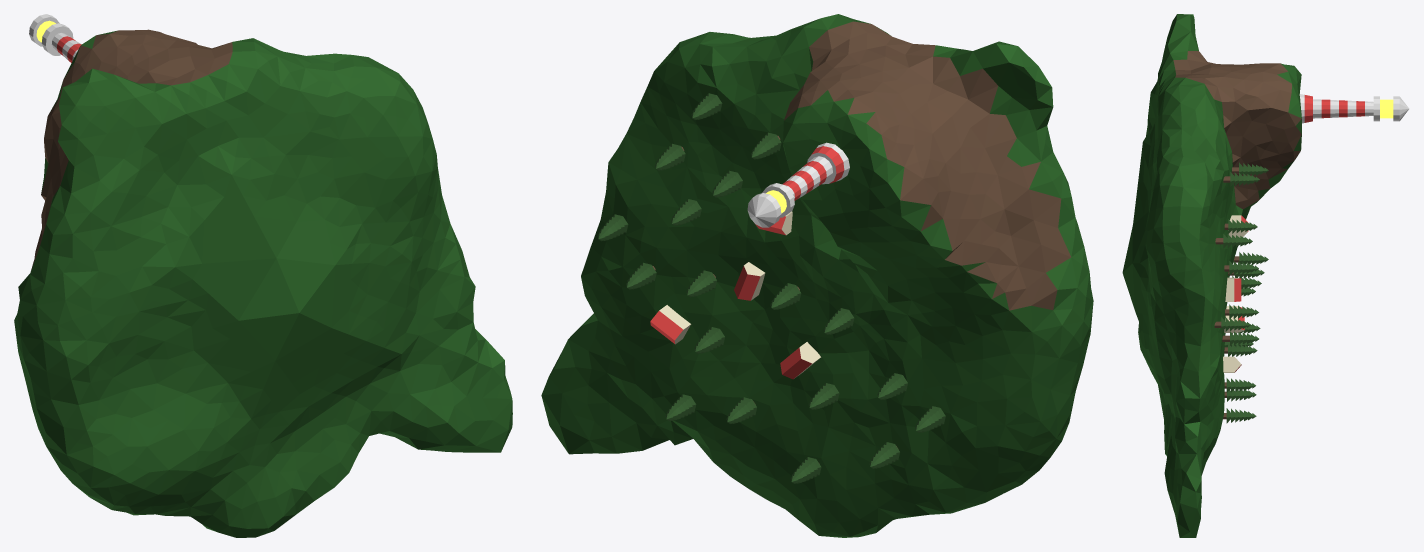
File: MainIsland(placeholder).fbx
3 renders of one model, left to right at view 1: azimuth 30°, elevation 25°; view 2: azimuth 150°, elevation 25°; view 3: azimuth 270°, elevation 25°, orthographic. The views are drawn at different scales.
Visible parts, largest first — view 1: Icosphere, Cylinder.018; view 2: Icosphere, Cylinder.018, Cube.001, Cube.002, Cube.003; view 3: Icosphere, Cylinder.018, Cube.003.
Part boxes in pixels (x1=…): Icosphere: x1=14, y1=29, x2=512, y2=537; Cylinder.018: x1=29, y1=14, x2=81, y2=62; Icosphere: x1=541, y1=14, x2=1093, y2=537; Cylinder.018: x1=747, y1=142, x2=849, y2=227; Cube.001: x1=650, y1=305, x2=690, y2=344; Cube.002: x1=780, y1=342, x2=820, y2=379; Cube.003: x1=734, y1=262, x2=765, y2=300; Icosphere: x1=1122, y1=14, x2=1301, y2=537; Cylinder.018: x1=1299, y1=94, x2=1409, y2=123; Cube.003: x1=1225, y1=277, x2=1241, y2=301.
Size of the model in its own units: 521 by 500 by 333.
